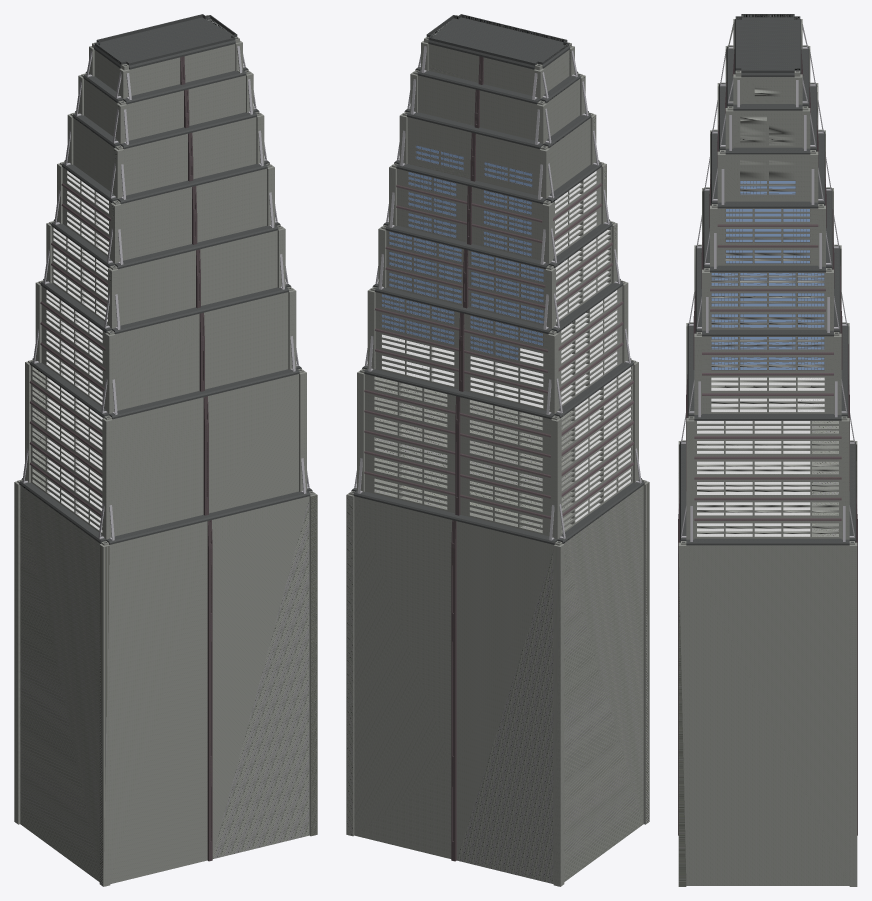
File: EDIF_3_FINAL.fbx
3 renders of one model, left to right at view 1: azimuth 30°, elevation 25°; view 2: azimuth 150°, elevation 25°; view 3: azimuth 270°, elevation 25°, orthographic.
Visible parts, largest first — view 1: BASE, Blacktop, Polished_C, Granite_Li, Metal_Silv; view 2: BASE, Blacktop, Granite_Li, Polished_C, cristales, Aluminum, Metal_Silv; view 3: BASE, Blacktop, Polished_C, cristales, Aluminum, Granite_Li, Metal_Silv.
Part boxes in pixels (x1,y1,x2,y2): BASE: [14, 15, 317, 886]; Blacktop: [19, 14, 312, 544]; Polished_C: [46, 171, 108, 531]; Granite_Li: [29, 56, 212, 861]; Metal_Silv: [22, 46, 309, 540]; BASE: [346, 15, 649, 886]; Blacktop: [351, 14, 644, 544]; Granite_Li: [364, 56, 634, 861]; Polished_C: [382, 171, 630, 522]; cristales: [382, 145, 543, 359]; Aluminum: [381, 145, 543, 360]; Metal_Silv: [354, 46, 641, 540]; BASE: [678, 19, 857, 886]; Blacktop: [680, 14, 855, 545]; Polished_C: [697, 377, 824, 536]; cristales: [711, 181, 824, 369]; Aluminum: [711, 180, 824, 370]; Granite_Li: [678, 49, 857, 835]; Metal_Silv: [681, 24, 854, 541].
Bounding box in the file's own units: 11024 × 38849 × 7990.
